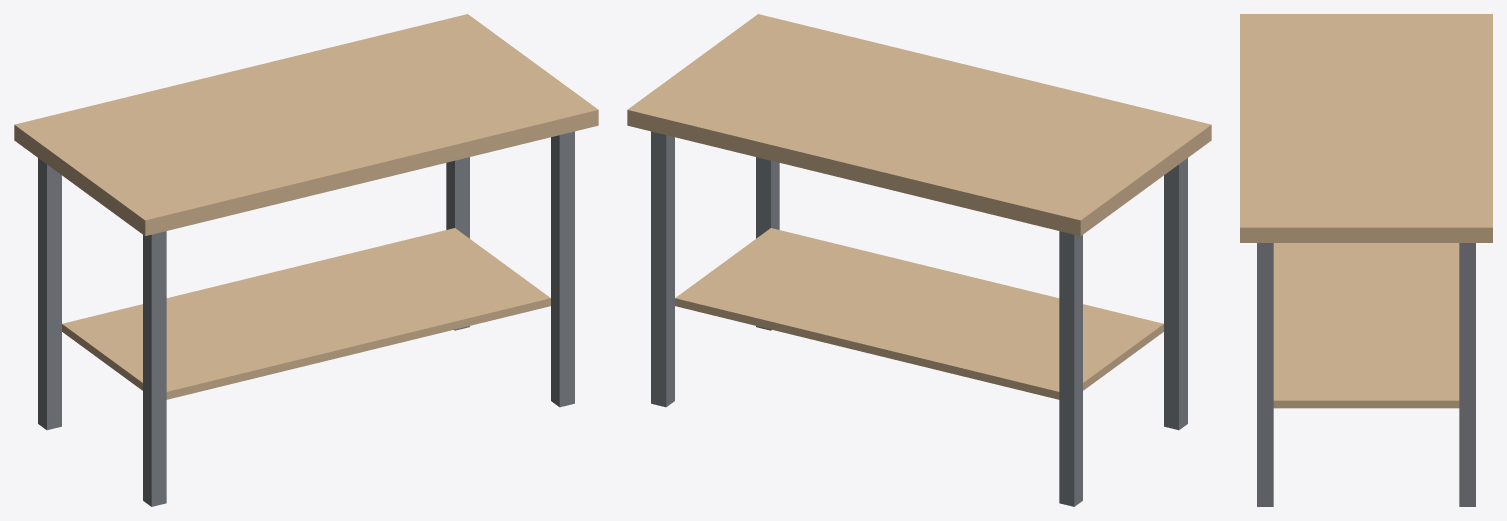
Rendered from desk.glb.
The picture shows the model from 3 angles, left to right: view 1: azimuth 30°, elevation 25°; view 2: azimuth 150°, elevation 25°; view 3: azimuth 270°, elevation 25°; orthographic projection. The views are drawn at different scales.
Visible parts, largest first — view 1: Desk; view 2: Desk; view 3: Desk.
Boxes of the visible parts, <box> form: Desk: <box>14,14,598,506</box>; Desk: <box>627,14,1211,506</box>; Desk: <box>1240,14,1492,506</box>.
Size of the model in its own units: 1.2 by 0.75 by 0.6.
